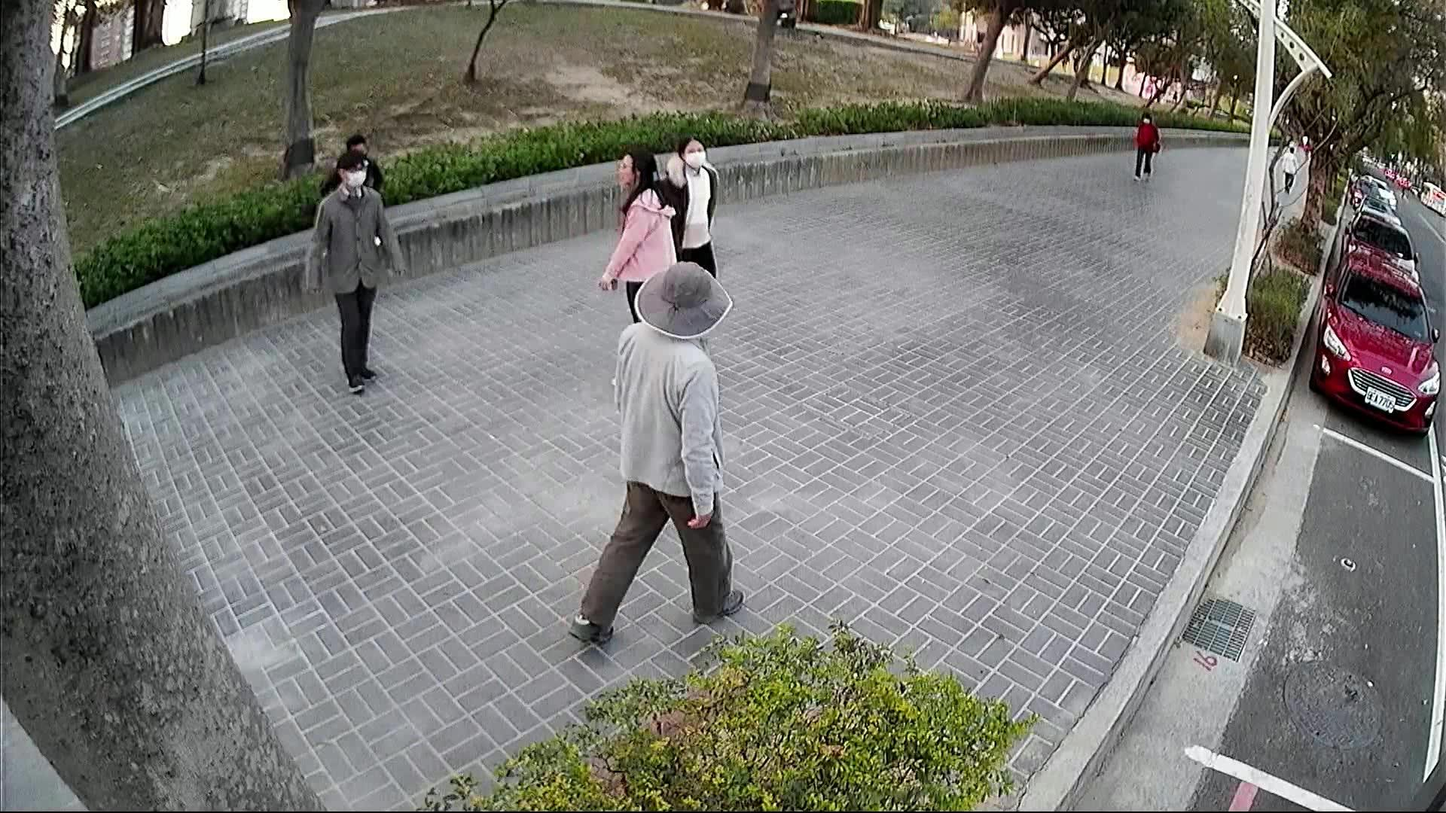person: (558, 254, 746, 653), (300, 142, 412, 397), (593, 136, 678, 329), (658, 130, 722, 285), (1129, 106, 1160, 184), (1277, 140, 1299, 196)
